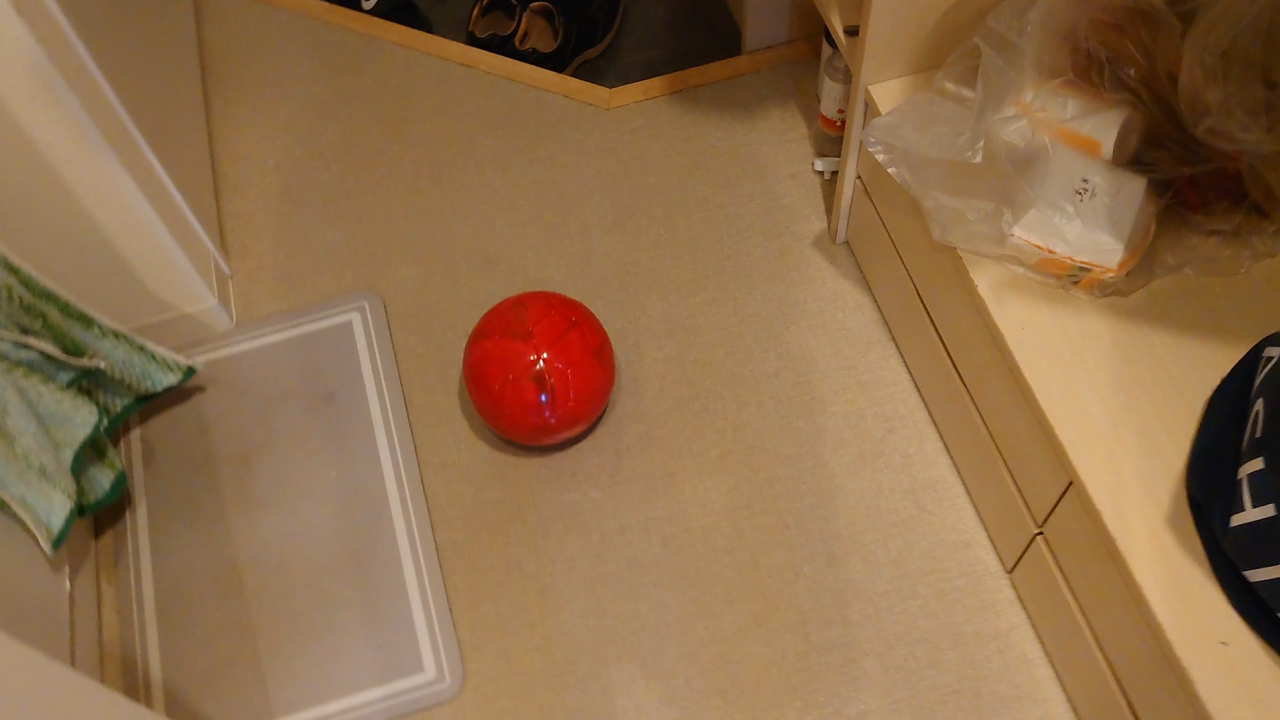red: (464, 291, 615, 449)
